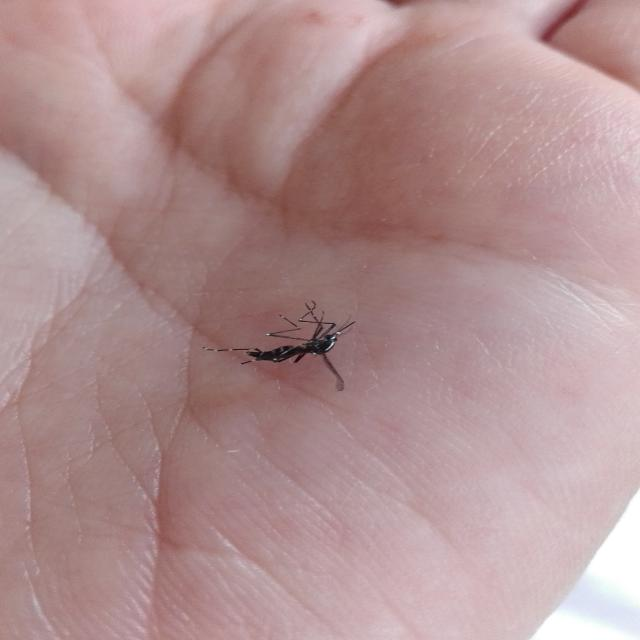albopictus: (204, 296, 363, 390)
